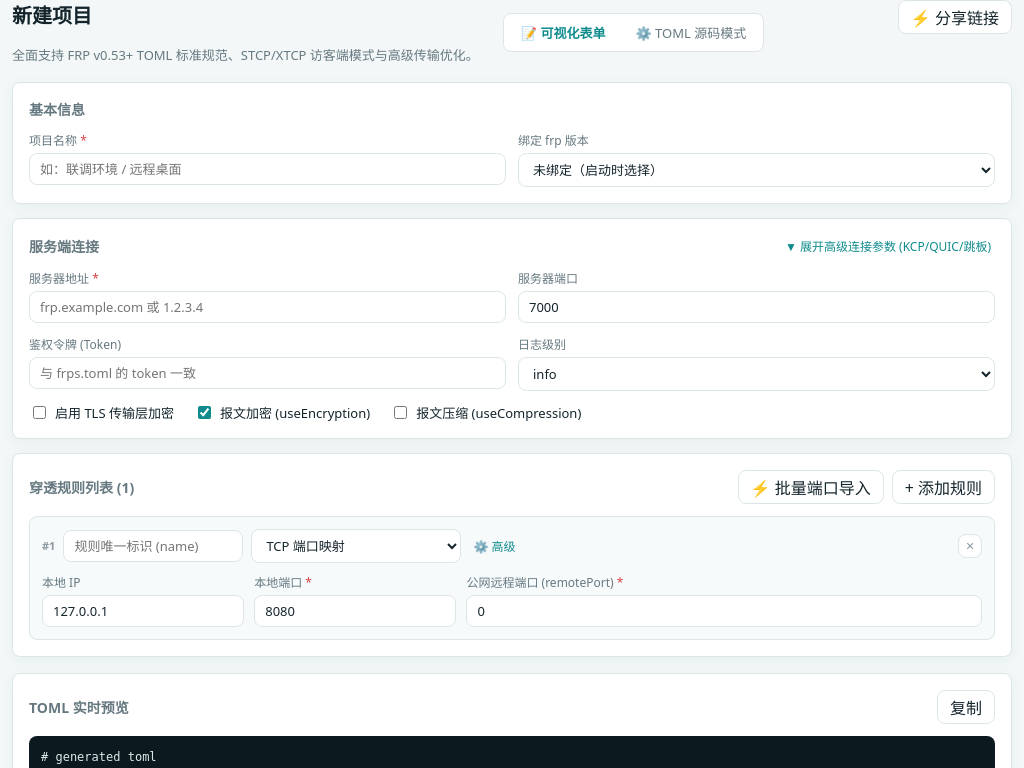
Scenario: FrpcProjectEditor 批量端口 › 区间+列表混合展开为多条规则并替换空白默认规则
Click the button "⚡ 批量端口导入".
click(811, 487)  # box x1=738 y1=470 x2=884 y2=504
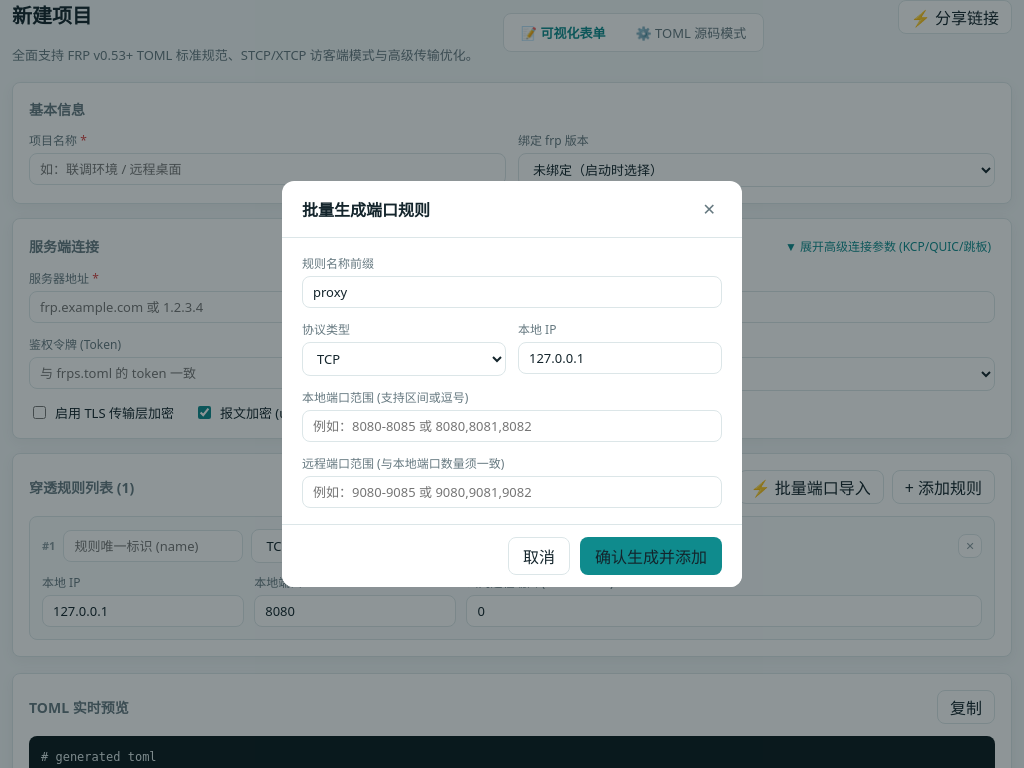
Type "8080-8082,9000" into the field labelled "本地端口范围 (支持区间或逗号)".
click(512, 426); type("8080-8082,9000")  # box x1=302 y1=410 x2=722 y2=442
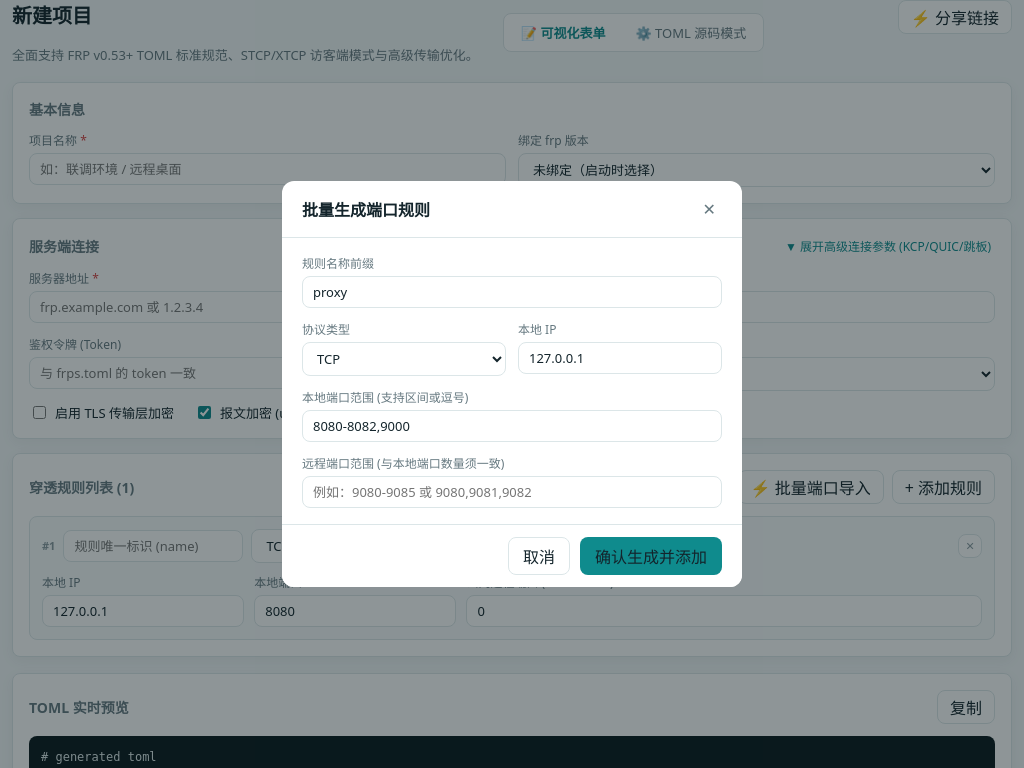
Type "9080,9081,9082,9083" into the field labelled "远程端口范围 (与本地端口数量须一致)".
click(512, 492); type("9080,9081,9082,9083")  # box x1=302 y1=476 x2=722 y2=508
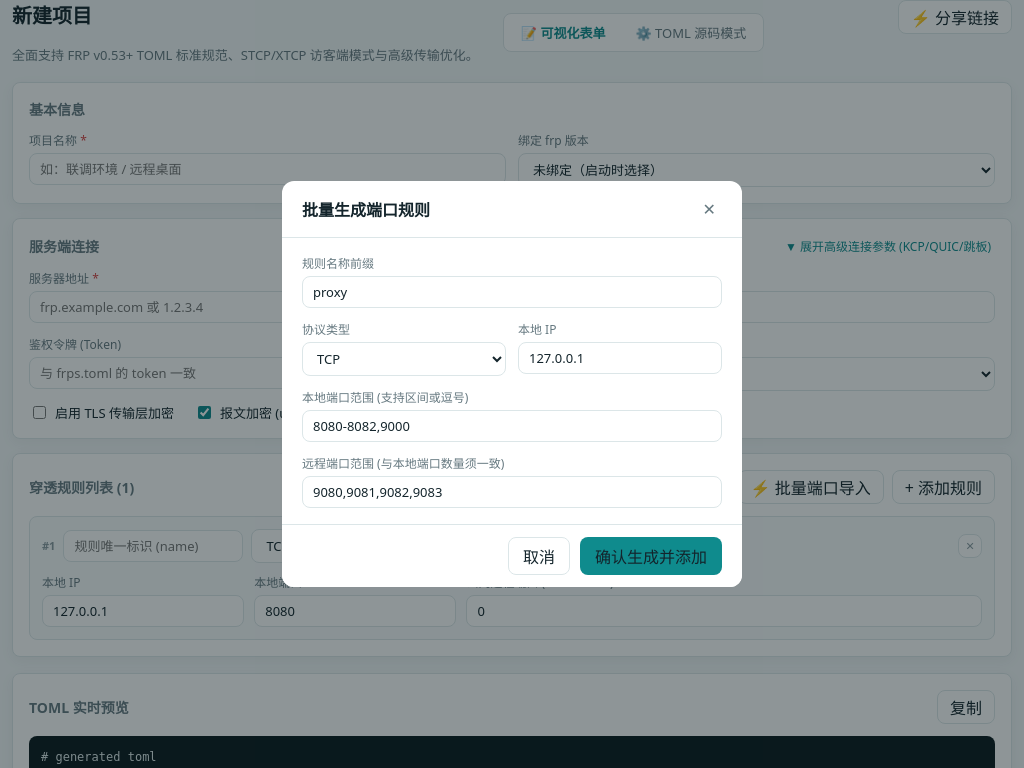
Click the button "确认生成并添加".
click(651, 556)  # box x1=580 y1=537 x2=722 y2=575
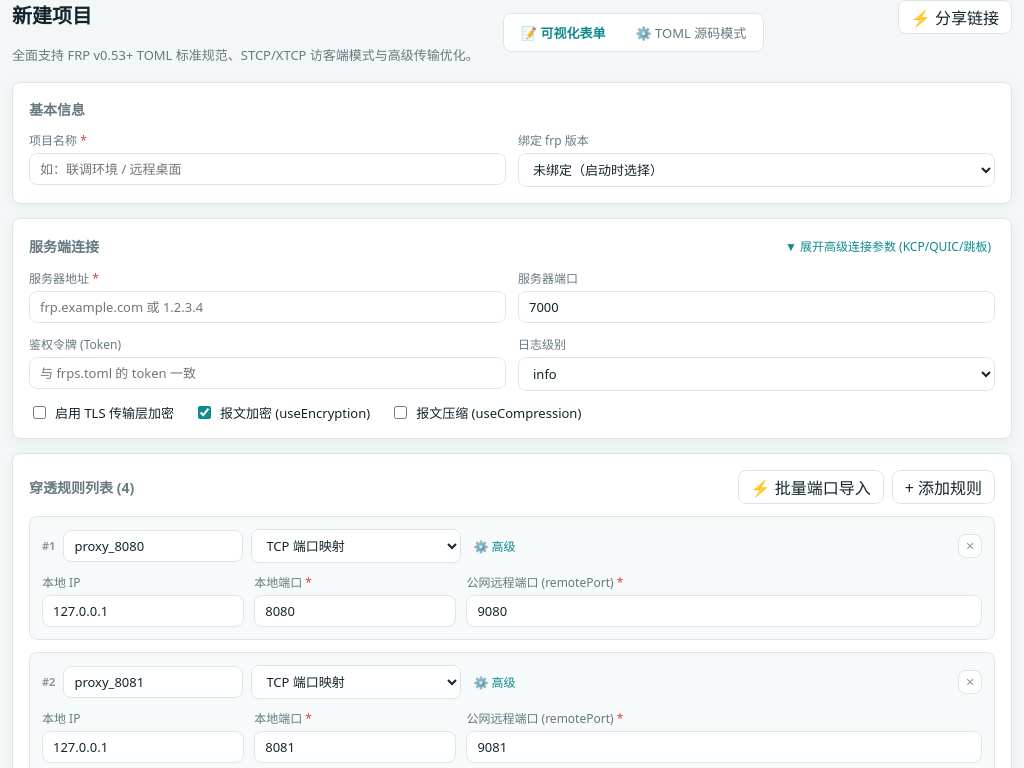
Result: the field with class "input-name" next to "#1" holds "proxy_8080" at x1=63 y1=530 x2=243 y2=562
